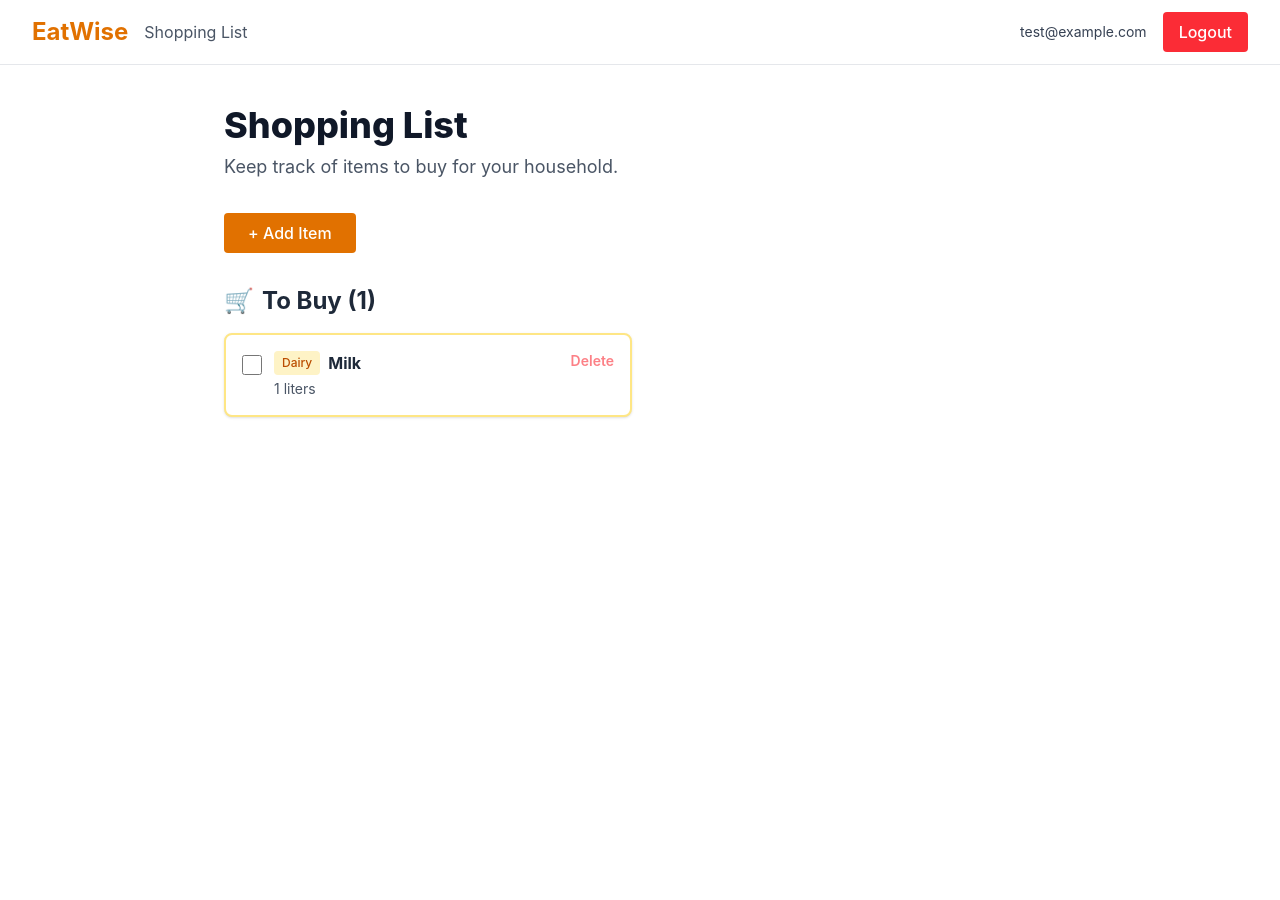
Test: ShoppingList › should show success message when deleting item
Click the button "Delete": {"x": 592, "y": 361} top-left (571, 351), bottom-right (614, 371)
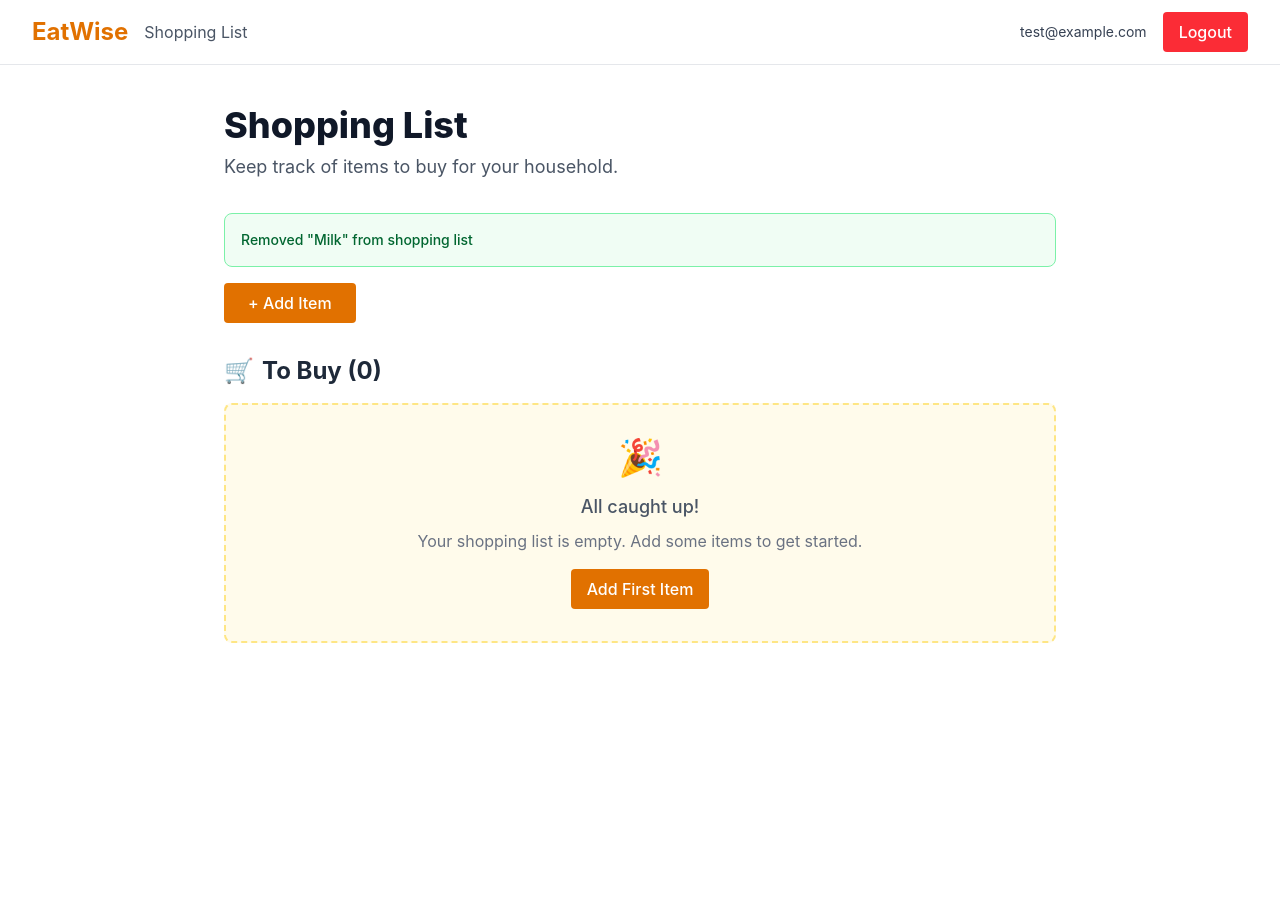
expect the text "Removed \"Milk\" from shopping list" is shown: met, box top-left (224, 213), bottom-right (1056, 267)
